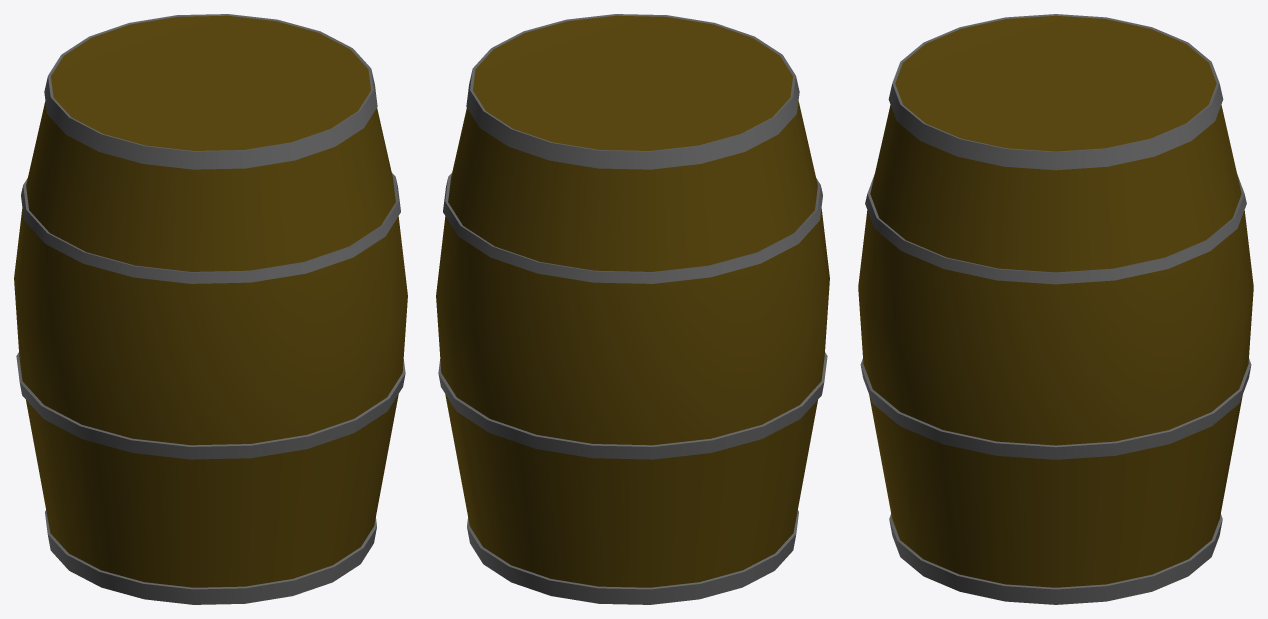
File: Tonmetwater.fbx
The picture shows the model from 3 angles, left to right: view 1: azimuth 30°, elevation 25°; view 2: azimuth 150°, elevation 25°; view 3: azimuth 270°, elevation 25°; orthographic projection.
Parts seen in each view (by area): view 1: pCylinder1; view 2: pCylinder1; view 3: pCylinder1.
Part boxes in pixels (x1=…): pCylinder1: x1=14, y1=14, x2=407, y2=604; pCylinder1: x1=436, y1=14, x2=829, y2=604; pCylinder1: x1=858, y1=14, x2=1253, y2=604.
Bounding box in the file's own units: 6.51 × 8.22 × 6.51.
